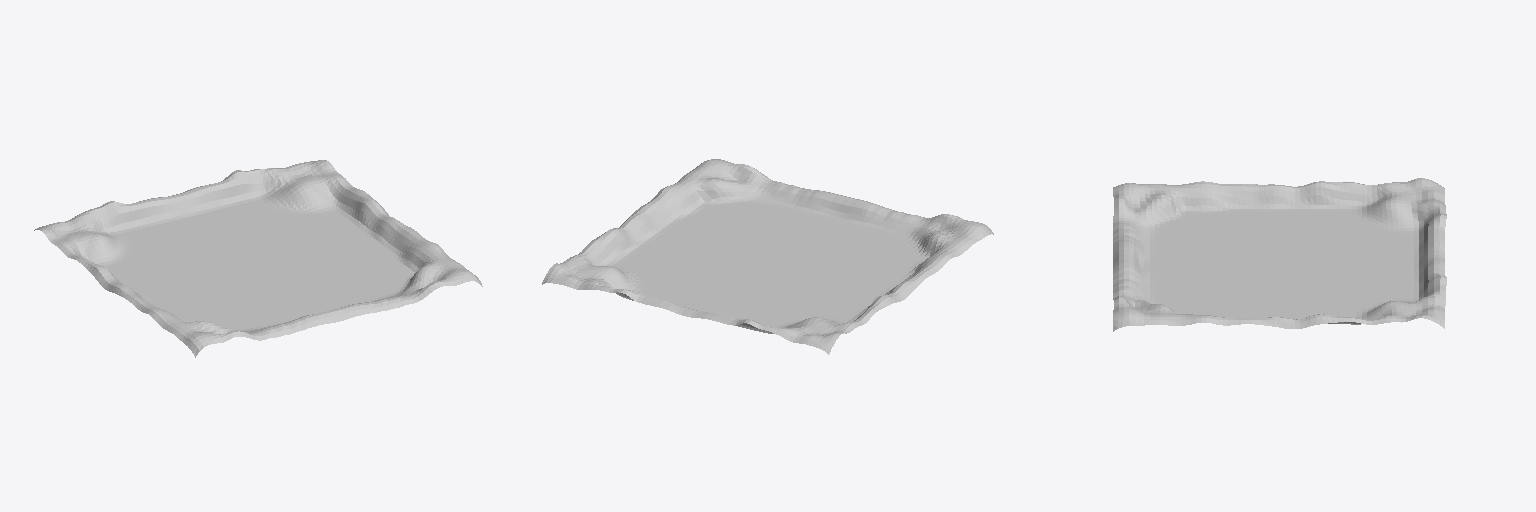
Rendered from map.obj.
3 renders of one model, left to right at view 1: azimuth 30°, elevation 25°; view 2: azimuth 150°, elevation 25°; view 3: azimuth 270°, elevation 25°, orthographic.
Parts seen in each view (by area): view 1: map; view 2: map; view 3: map.
Part boxes in pixels (x1,y1,x2,y2): map: (34,160,482,357); map: (542,159,993,354); map: (1113,178,1446,331).
Size of the model in its own units: 117 by 7.87 by 117.